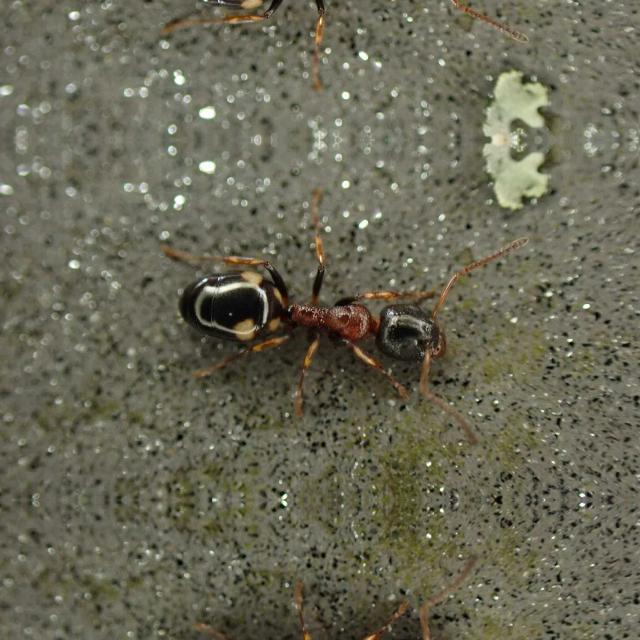Dolichoderus: (143, 234, 502, 390), (141, 0, 500, 44)
